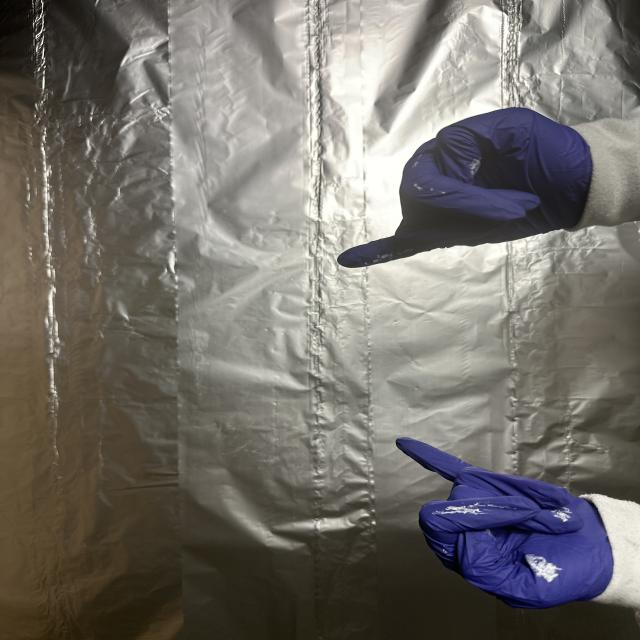gloves_contaminated: (338, 108, 595, 268), (396, 438, 614, 608)
